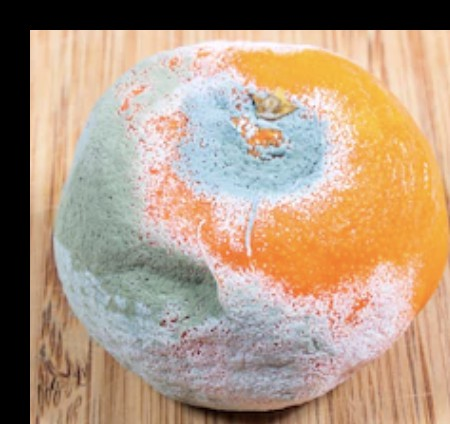rotten_orange: (54, 40, 447, 410)
